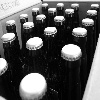beer: (56, 43, 81, 100)
